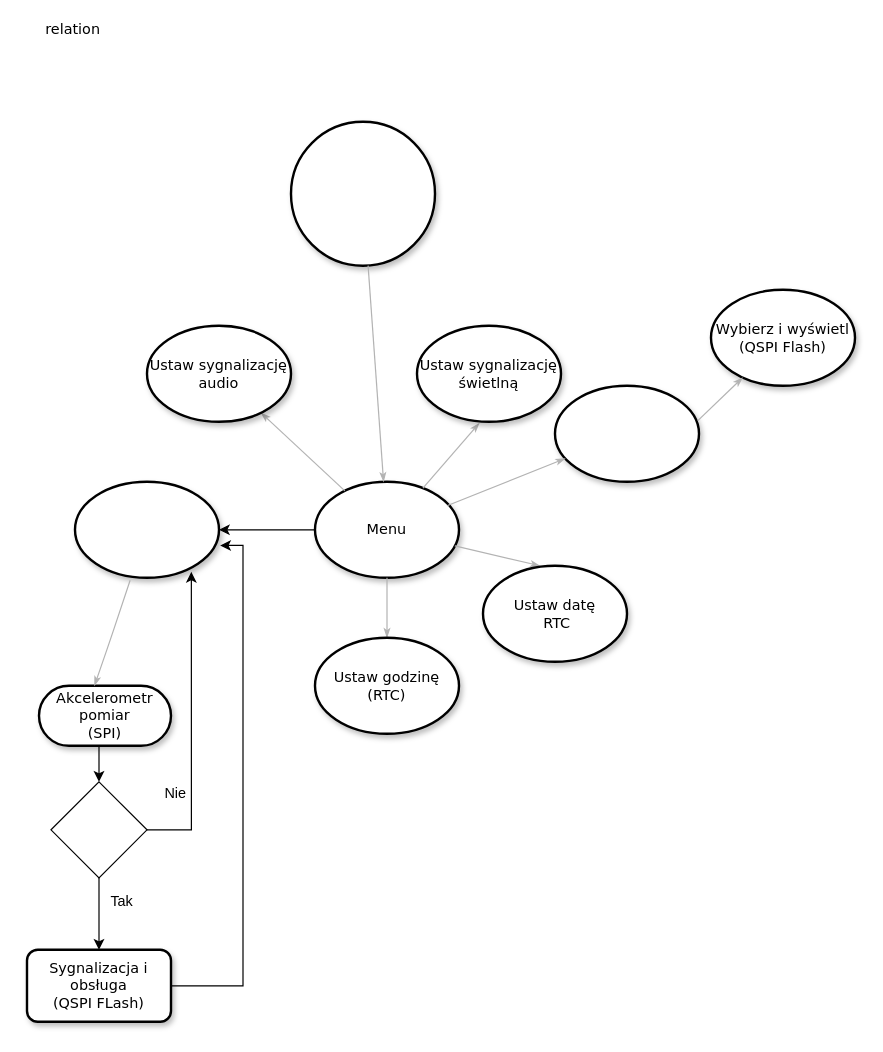
This 883x1052 diagram has some shape labels left out. The shapes that lost their labels are listed below. From the top down, each one's centre as x and y in pixels, then its label:
[363,195]: Wykrywacz kradzieży
[627,435]: Wyświetl alarmy
[147,531]: START (akcelerometr)
[98,829]: Czy alarm?
